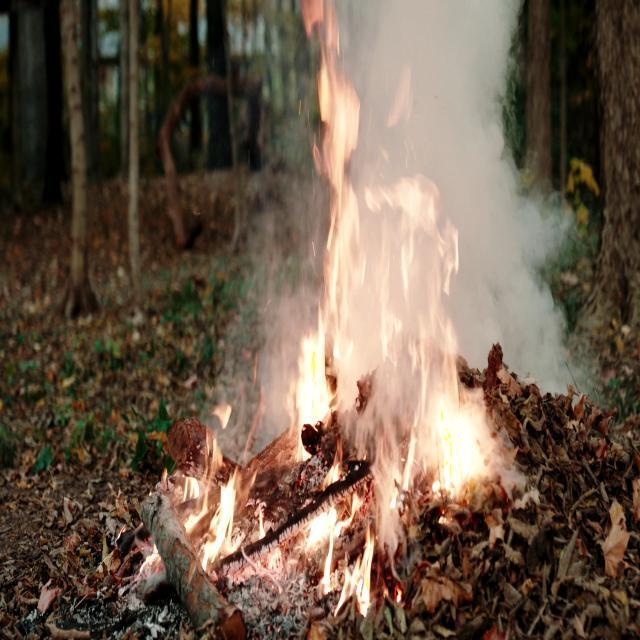Fire: (290, 166, 496, 620), (172, 391, 287, 598), (274, 594, 279, 596)
Smoke: (346, 0, 558, 205), (447, 205, 589, 399)
